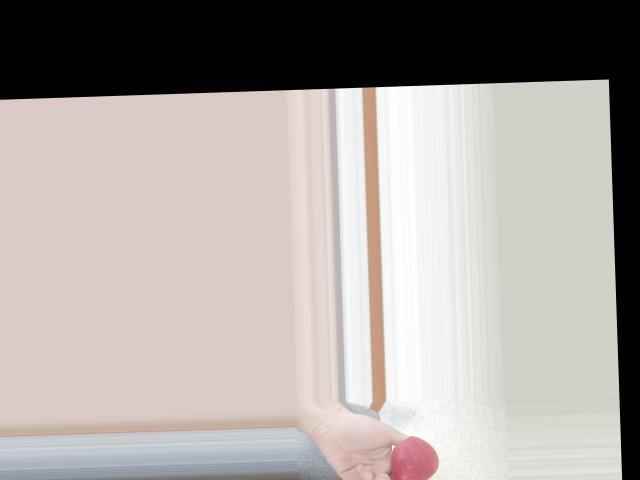apple: (390, 435, 439, 480)
